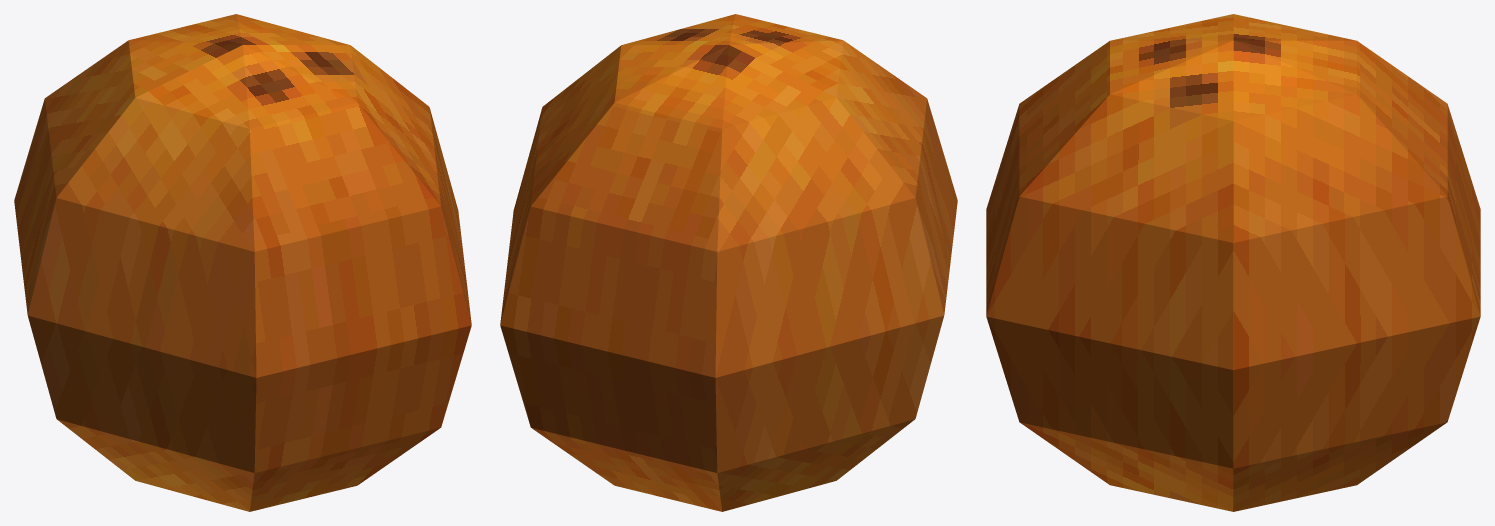
File: Coco.fbx
The picture shows the model from 3 angles, left to right: view 1: azimuth 30°, elevation 25°; view 2: azimuth 150°, elevation 25°; view 3: azimuth 270°, elevation 25°; orthographic projection. The views are drawn at different scales.
Visible parts, largest first — view 1: gSmbaBall; view 2: gSmbaBall; view 3: gSmbaBall.
Boxes of the visible parts, <box> form: gSmbaBall: <box>14,14,471,511</box>; gSmbaBall: <box>500,14,957,511</box>; gSmbaBall: <box>986,14,1480,511</box>.
Size of the model in its own units: 149 by 144 by 145.
